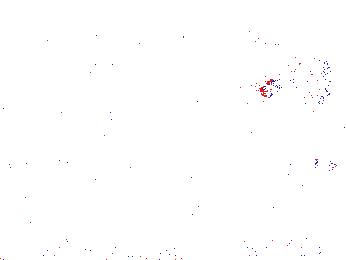flame jellyfish: (260, 48, 335, 108), (273, 173, 346, 233), (270, 158, 319, 204)
